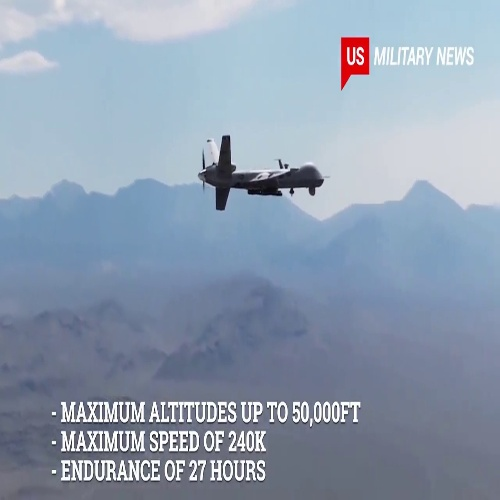uav: (197, 133, 329, 210)
